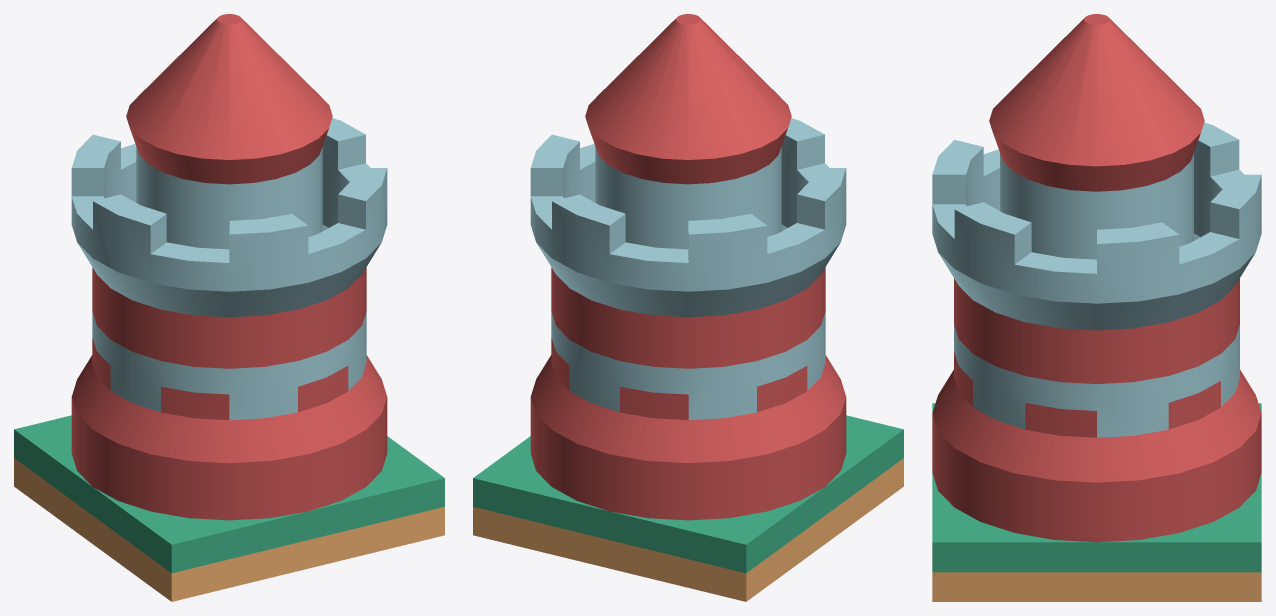
The model's file is tile_tower_roundC.obj.
The picture shows the model from 3 angles, left to right: view 1: azimuth 30°, elevation 25°; view 2: azimuth 150°, elevation 25°; view 3: azimuth 270°, elevation 25°; orthographic projection. The views are drawn at different scales.
Parts seen in each view (by area): view 1: towerRound_sampleF, tile; view 2: towerRound_sampleF, tile; view 3: towerRound_sampleF, tile.
Part boxes in pixels (x1,y1,x2,y2): towerRound_sampleF: (71, 14, 387, 520); tile: (14, 415, 444, 601); towerRound_sampleF: (530, 14, 846, 520); tile: (473, 415, 903, 601); towerRound_sampleF: (932, 14, 1261, 542); tile: (932, 403, 1261, 601).
Bounding box in the file's own units: 1 × 1.72 × 1.
